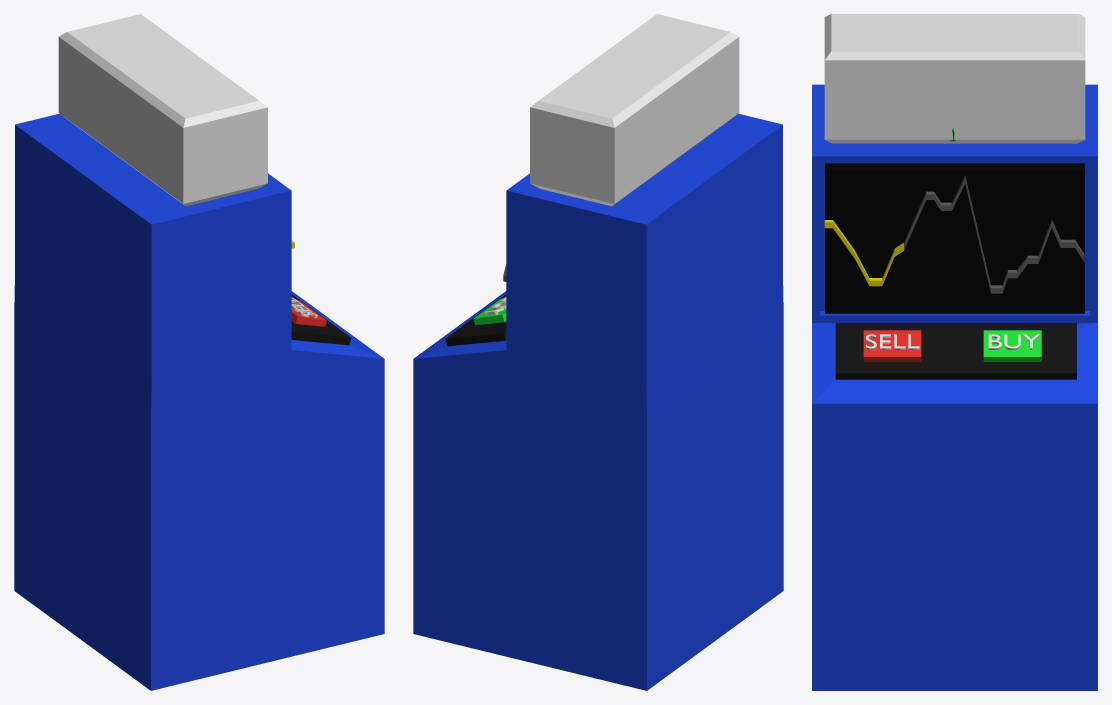
The model's file is Atari.fbx.
The picture shows the model from 3 angles, left to right: view 1: azimuth 30°, elevation 25°; view 2: azimuth 150°, elevation 25°; view 3: azimuth 270°, elevation 25°; orthographic projection. The views are drawn at different scales.
Parts seen in each view (by area): view 1: Artri; view 2: Artri; view 3: Artri.
Part boxes in pixels (<box>): Artri: <box>14,14,384,690</box>; Artri: <box>413,14,783,690</box>; Artri: <box>812,14,1097,690</box>.
Bounding box in the file's own units: 197 × 448 × 200.
